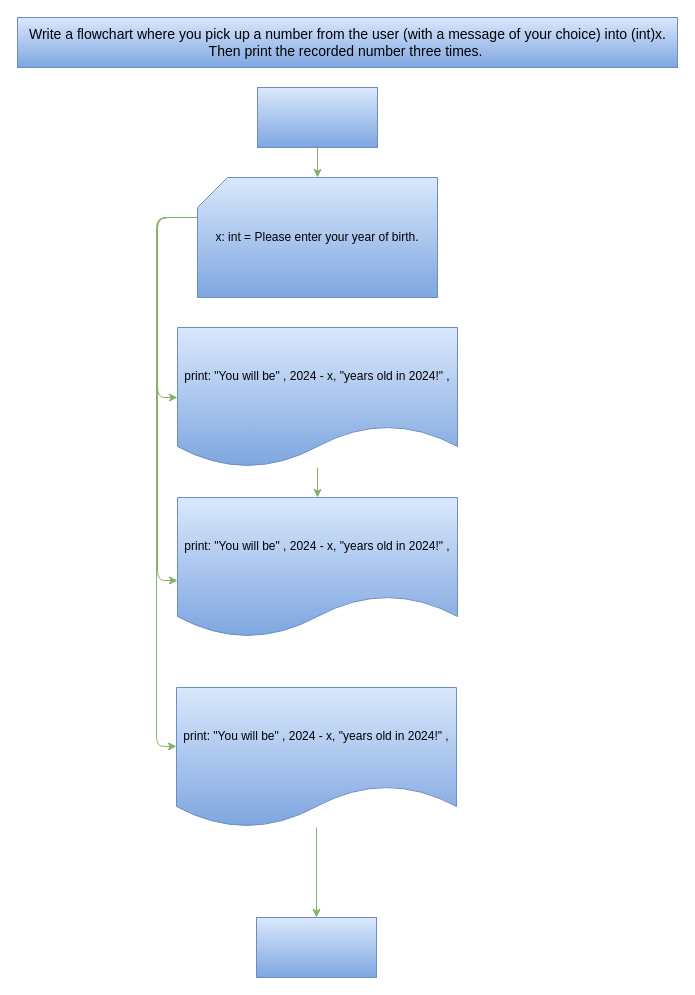
Image size: 695x995. Some labels were removed from this diagram. Here are the shapes that lost their labels. From the top down, the box of each, then its label:
(256, 86, 378, 148): Start
(256, 916, 376, 978): End
